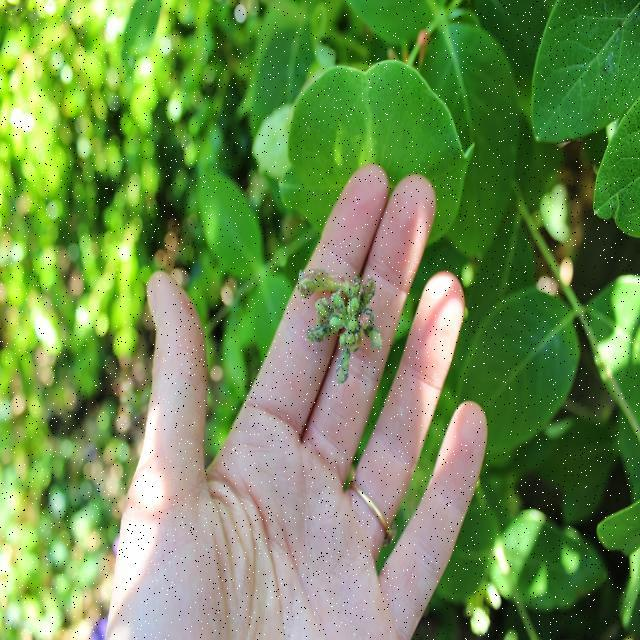Aphids: (376, 275, 424, 353), (508, 424, 554, 490), (448, 369, 474, 435), (412, 341, 437, 402), (328, 253, 351, 301)
